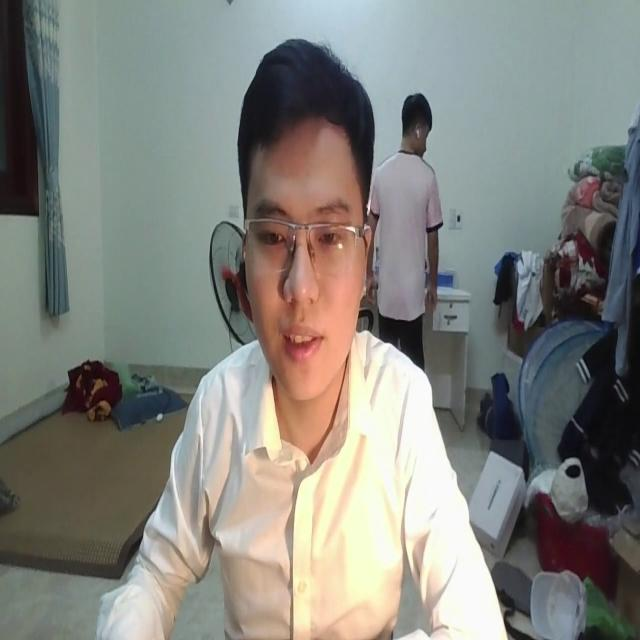extra_person: (368, 75, 444, 361)
student: (98, 40, 506, 640)
